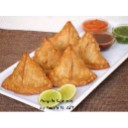samosa: (3, 51, 51, 91), (54, 45, 94, 86), (72, 32, 109, 70), (30, 38, 66, 71), (54, 20, 82, 50)
